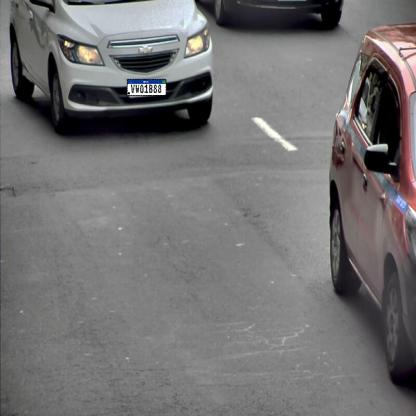PlacaM: (127, 79, 166, 96)
